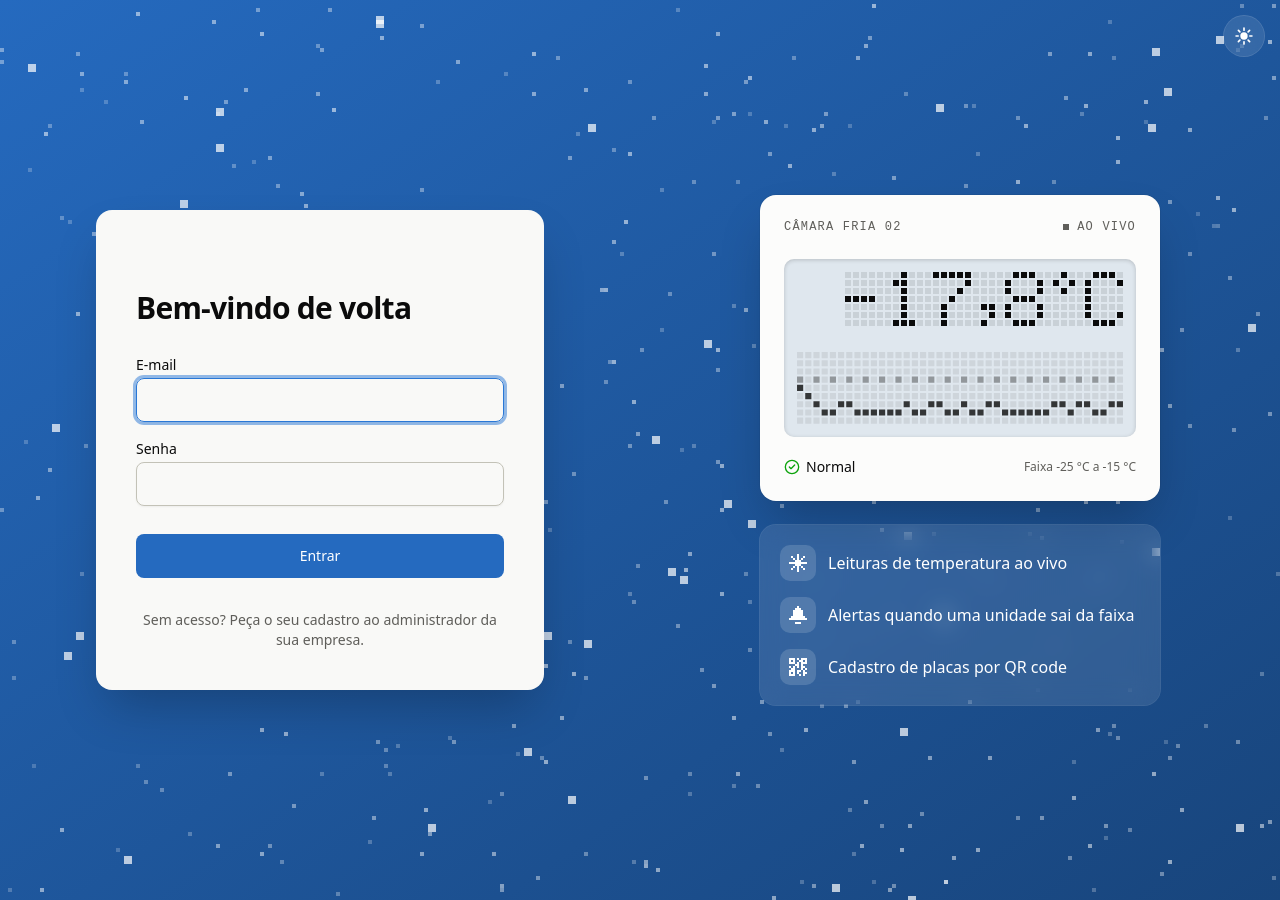
Test: LoginPage › mostra mensagem clara sem conexão
This screenshot has width=1280, height=900.
Type "ana@teste.com" into the field labelled "E-mail" at (320, 400), box x1=136 y1=378 x2=504 y2=422
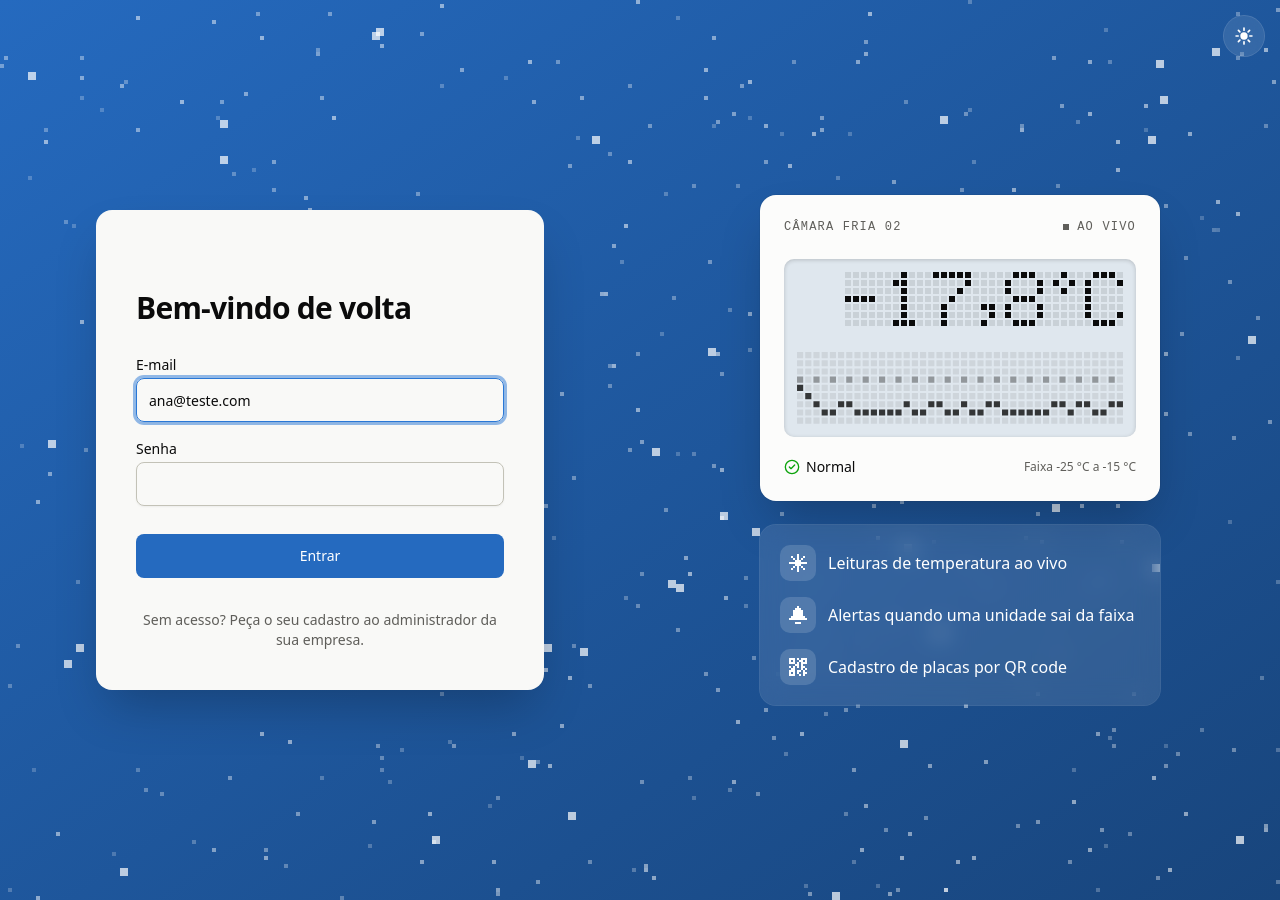
Type "senha" into the password field labelled "Senha" at (320, 484), box x1=136 y1=462 x2=504 y2=506
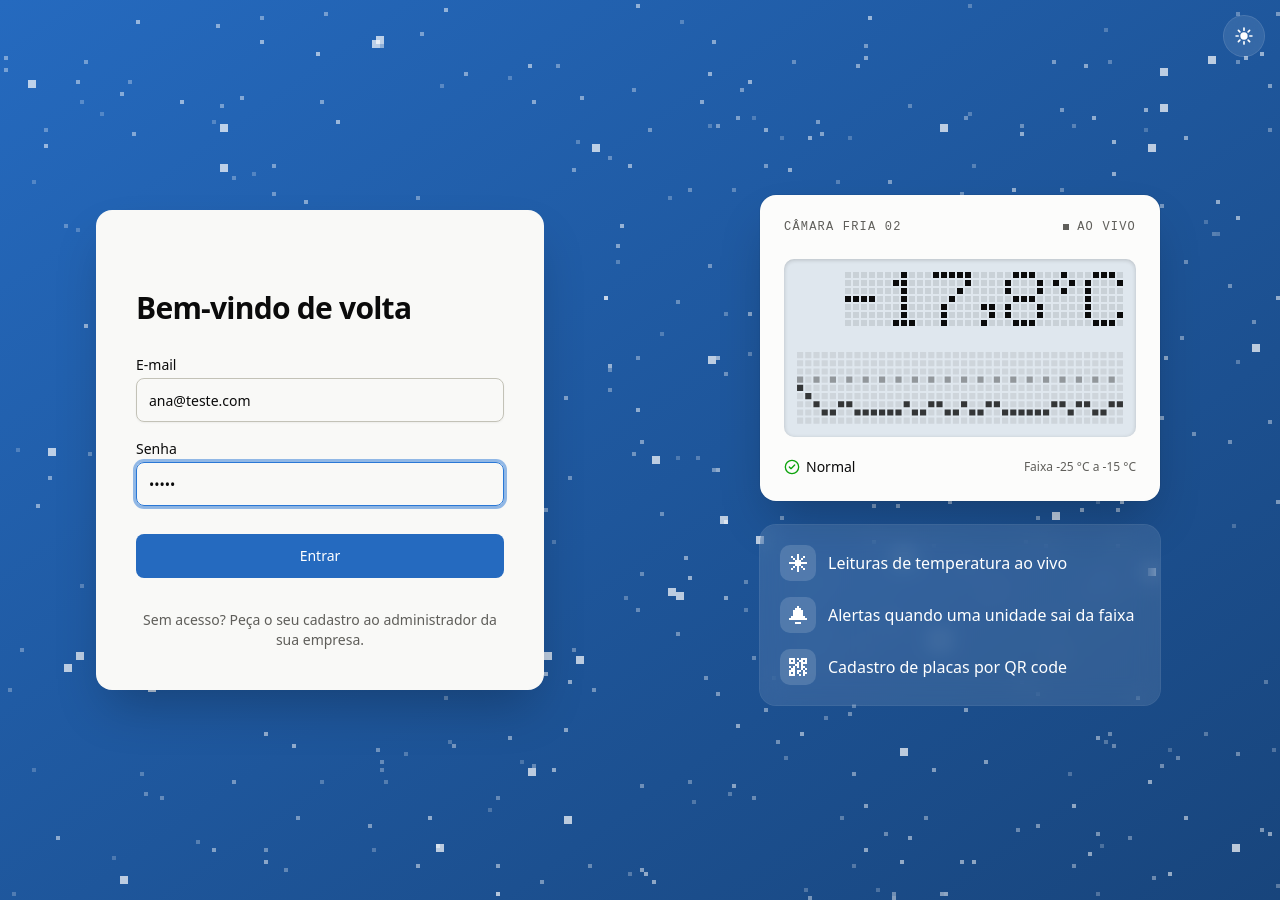
Click the button "Entrar" at (320, 556), box x1=136 y1=534 x2=504 y2=578
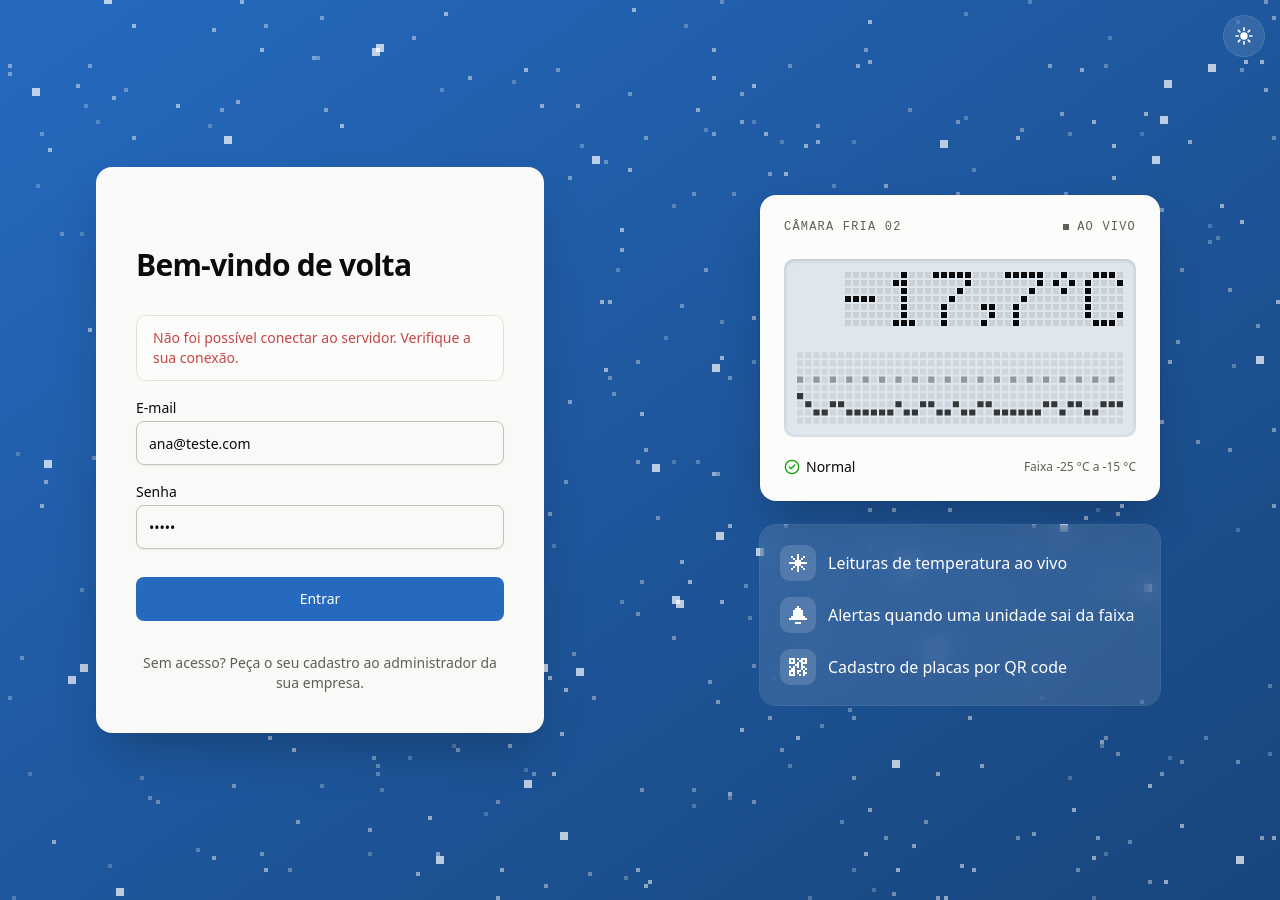
Check: the text "Não foi possível conectar ao servidor" is shown, box x1=153 y1=328 x2=471 y2=367
